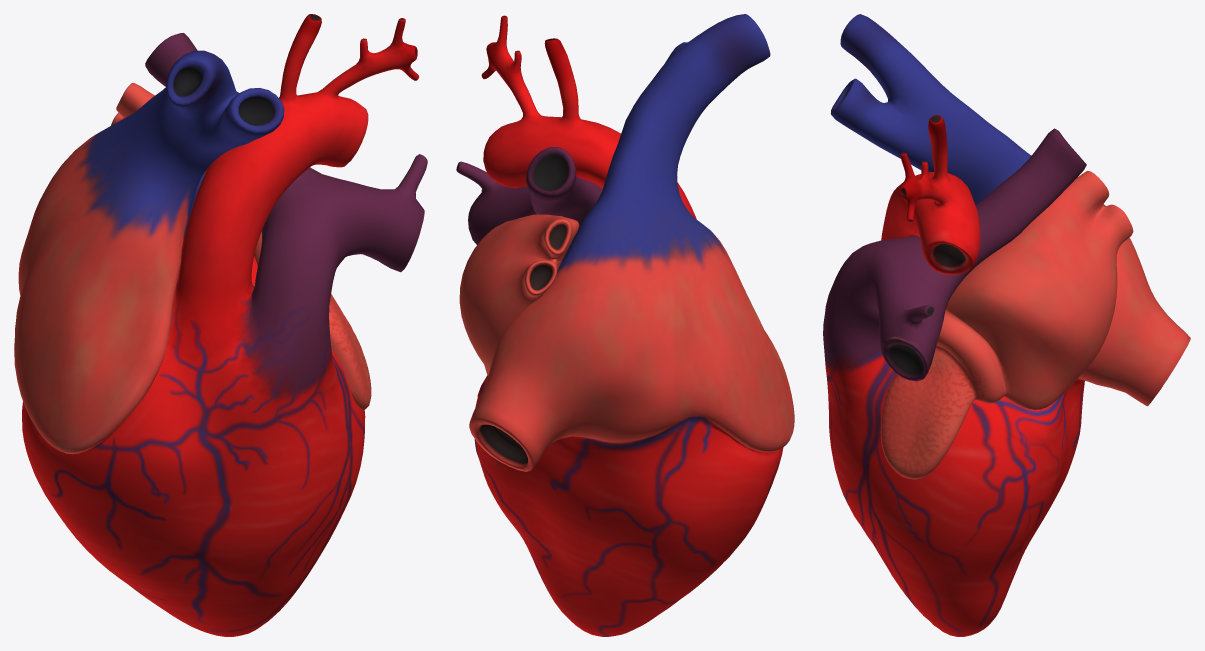
File: heart.glb
3 renders of one model, left to right at view 1: azimuth 30°, elevation 25°; view 2: azimuth 150°, elevation 25°; view 3: azimuth 270°, elevation 25°, orthographic. The views are drawn at different scales.
Visible parts, largest first — view 1: human_heart.1_1; view 2: human_heart.1_1; view 3: human_heart.1_1.
Part boxes in pixels (x1=…): human_heart.1_1: x1=14, y1=14, x2=427, y2=636; human_heart.1_1: x1=456, y1=14, x2=794, y2=636; human_heart.1_1: x1=823, y1=14, x2=1190, y2=636.
Bounding box in the file's own units: 0.1475 × 0.247 × 0.1433.
1 material, 1 textured.
